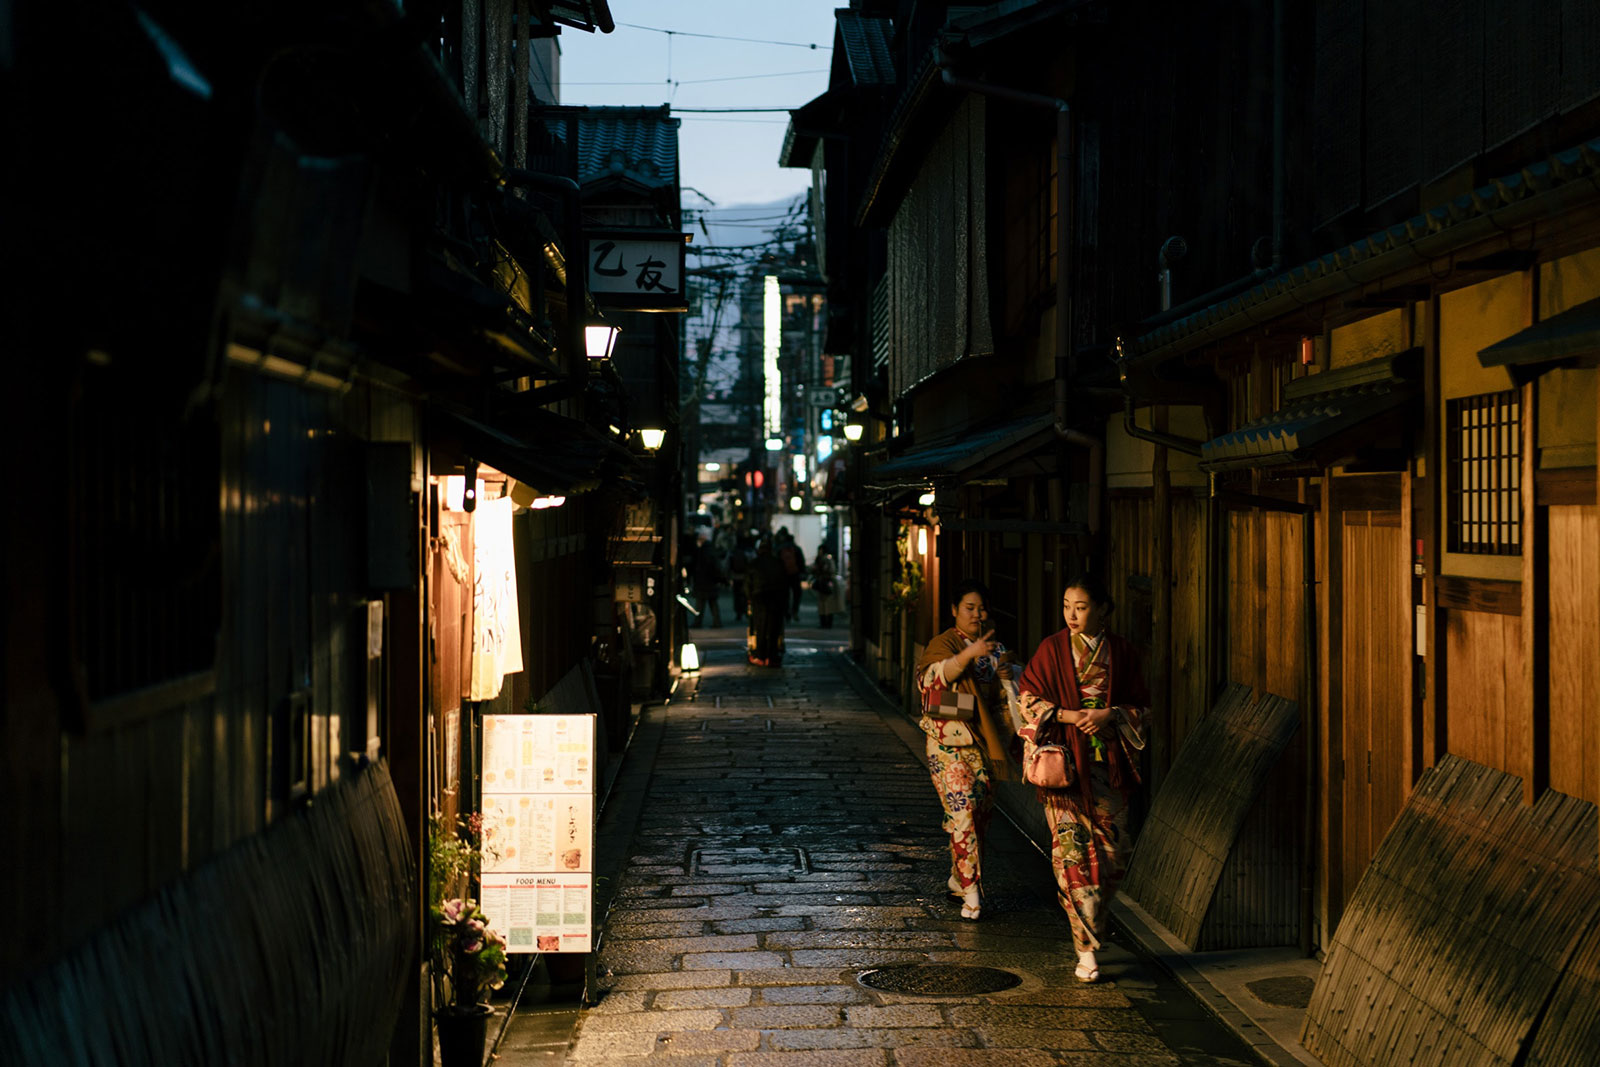people: (1024, 581, 1126, 981), (922, 591, 999, 925), (735, 529, 785, 668), (687, 534, 719, 625), (806, 538, 837, 620)
